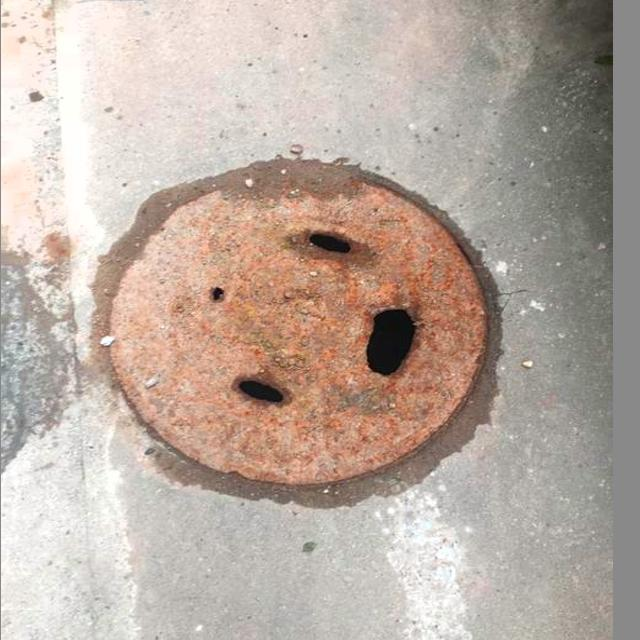broke: (70, 134, 528, 507)
